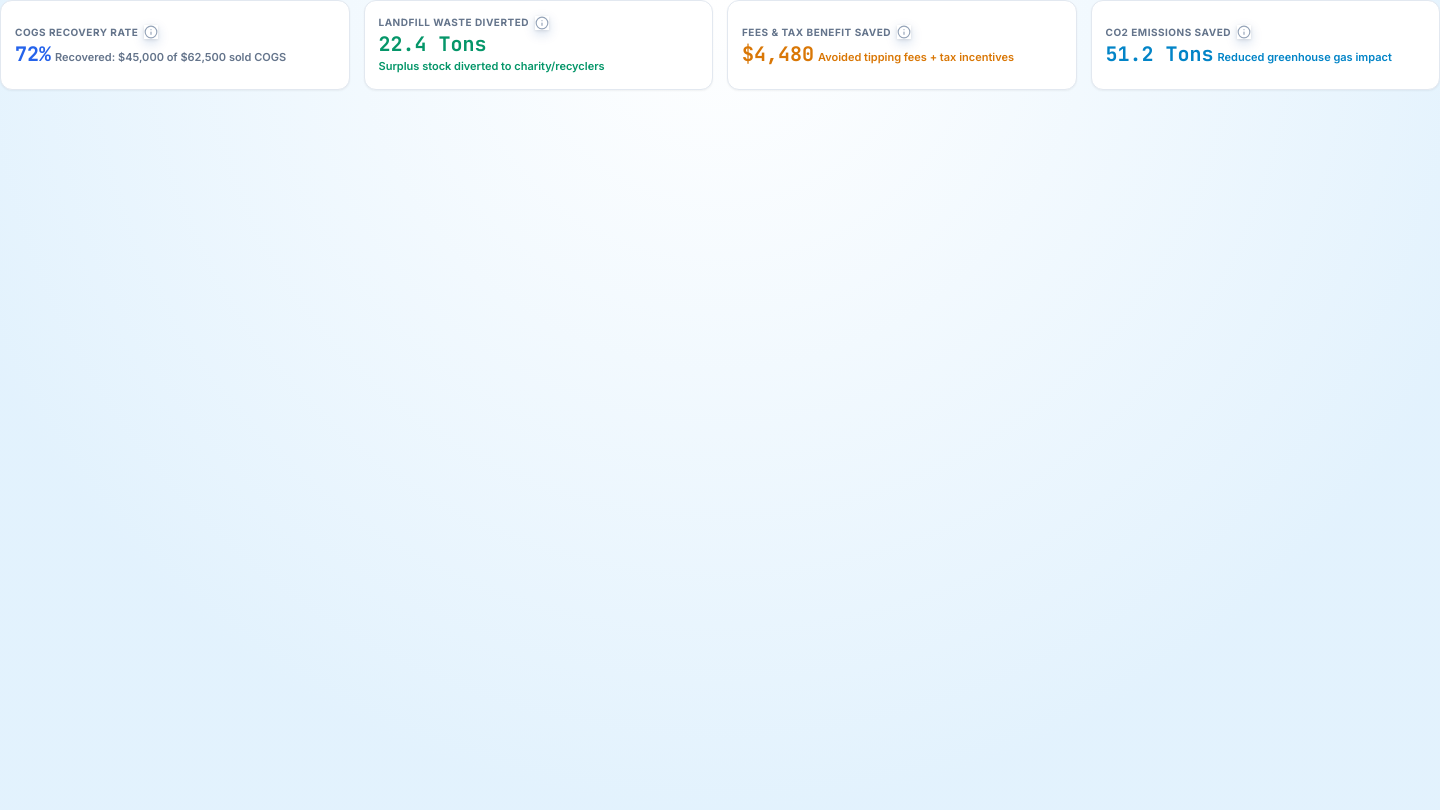
Test: SummaryMetrics — Recovery & Sustainability Panel Metric Cards (Ticket 01) › enforces single-active exclusive disclosure across all 4 cards
This screenshot has width=1440, height=810.
Note: Open Card 1
Step 1. Click the button named "more information about cogs recovery rate" → click(151, 32), box [144, 25, 158, 39]
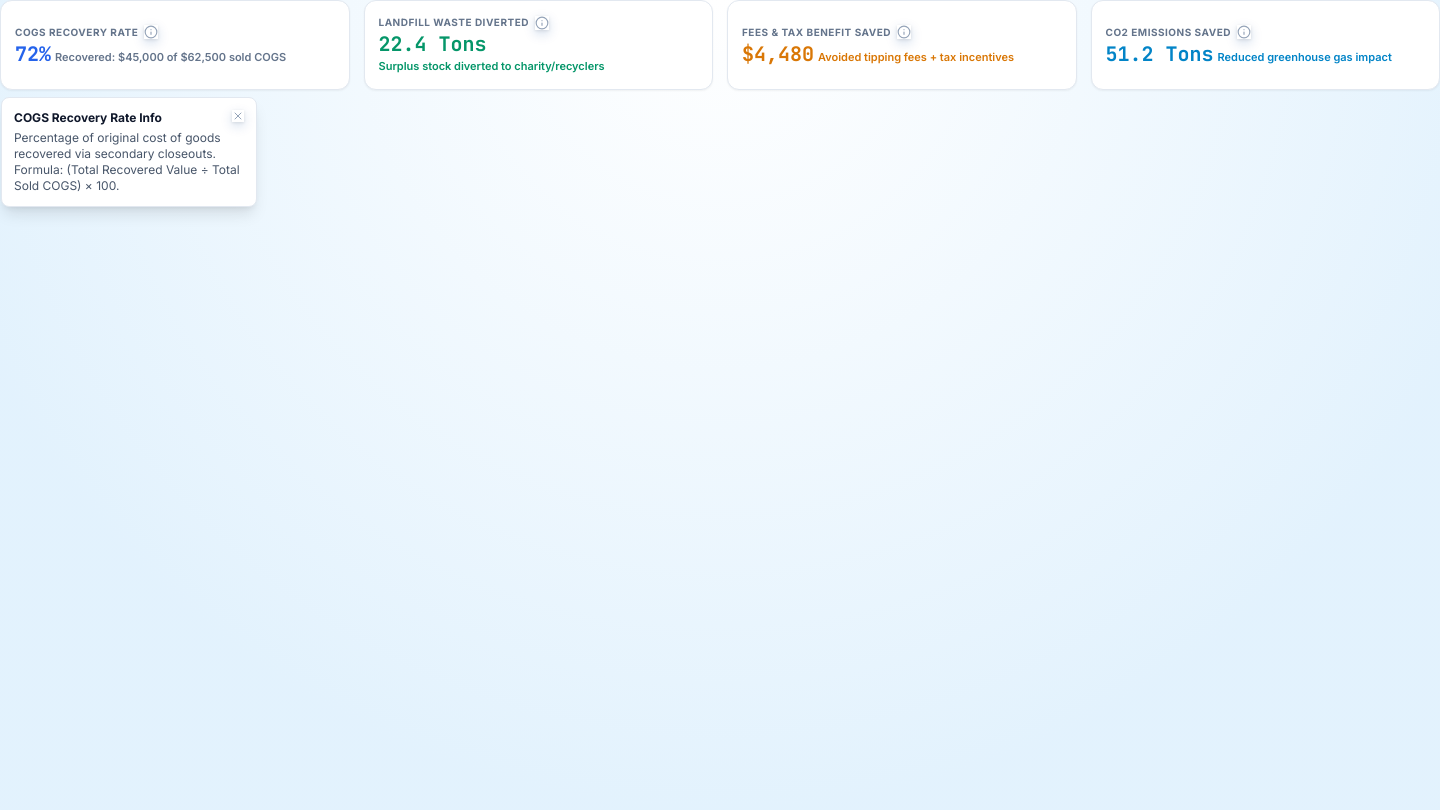
Expected: the text "Landfill Waste Diverted Info" is not shown
Expected: the text "COGS Recovery Rate Info" is shown, [14, 110, 162, 126]
Step 2. Click the button named "more information about landfill waste diverted" → click(542, 22), box [535, 16, 549, 30]
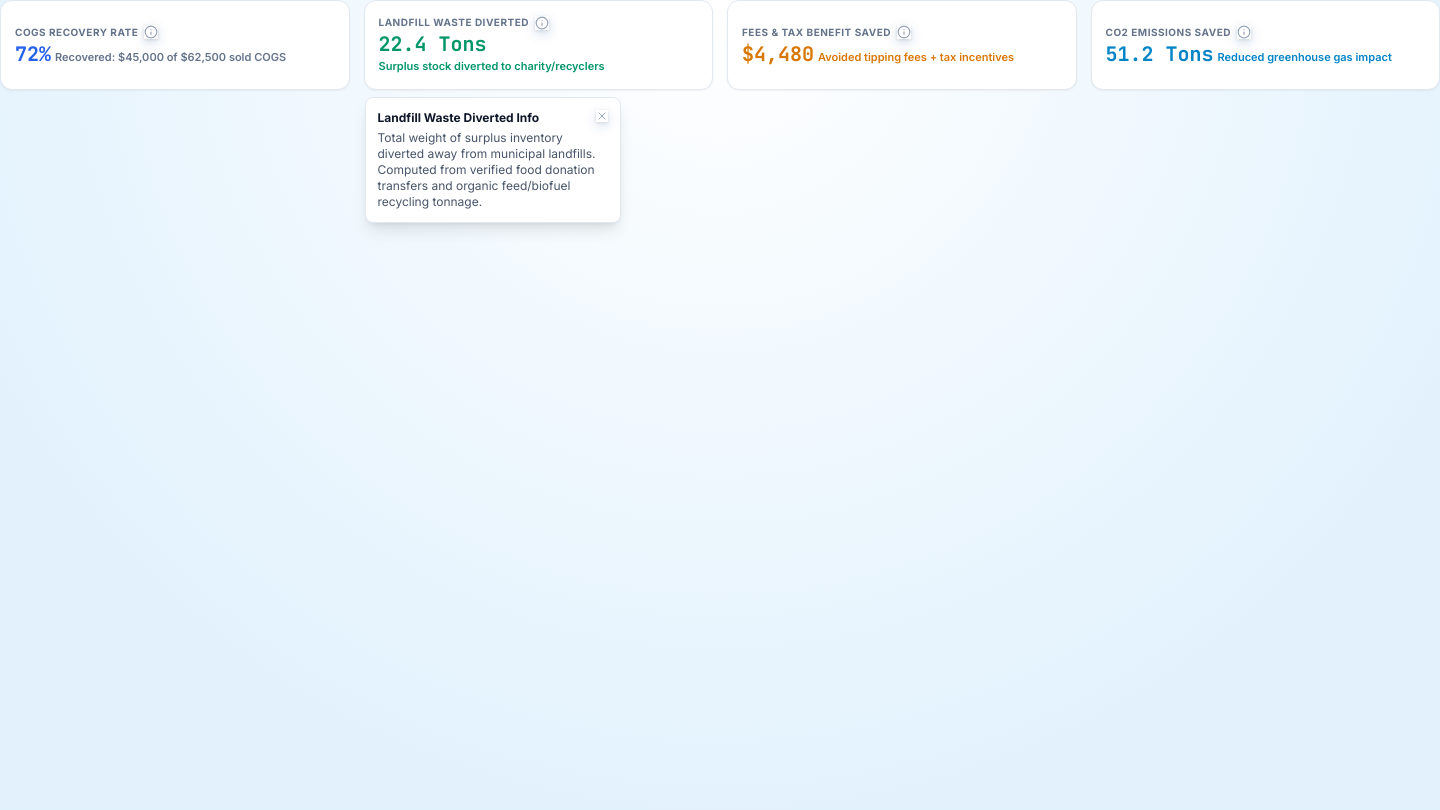
Expected: the text "Landfill Waste Diverted Info" is shown, [378, 110, 539, 126]
Expected: the text "COGS Recovery Rate Info" is gone
